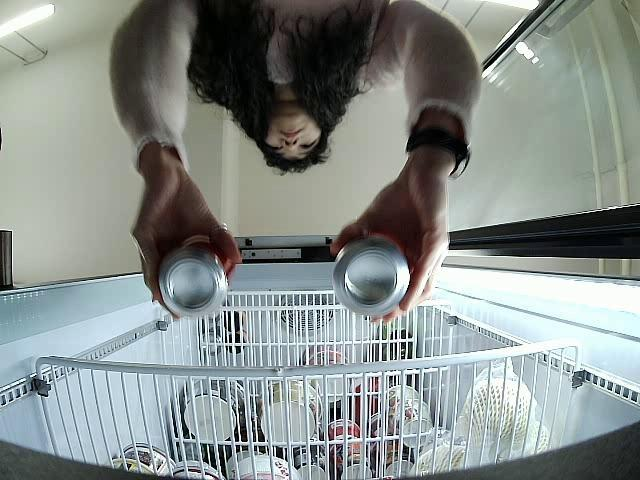11_cocaColaZero: (332, 225, 412, 318), (159, 236, 235, 320)
